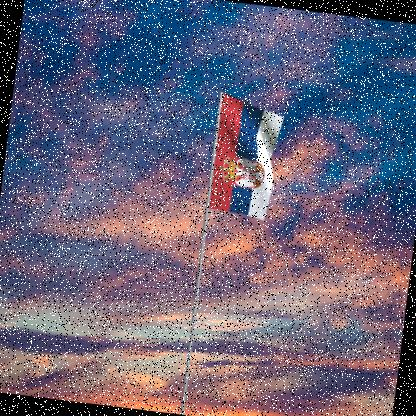rs: (208, 94, 286, 224)
